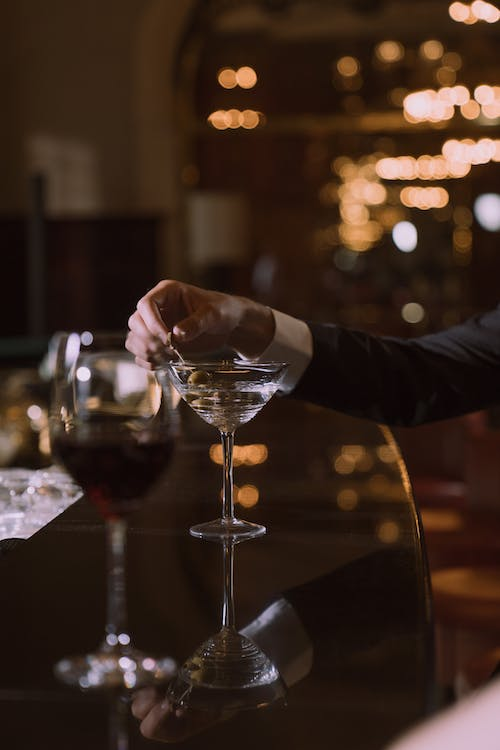alcohol: (46, 333, 180, 690), (165, 360, 293, 539)
